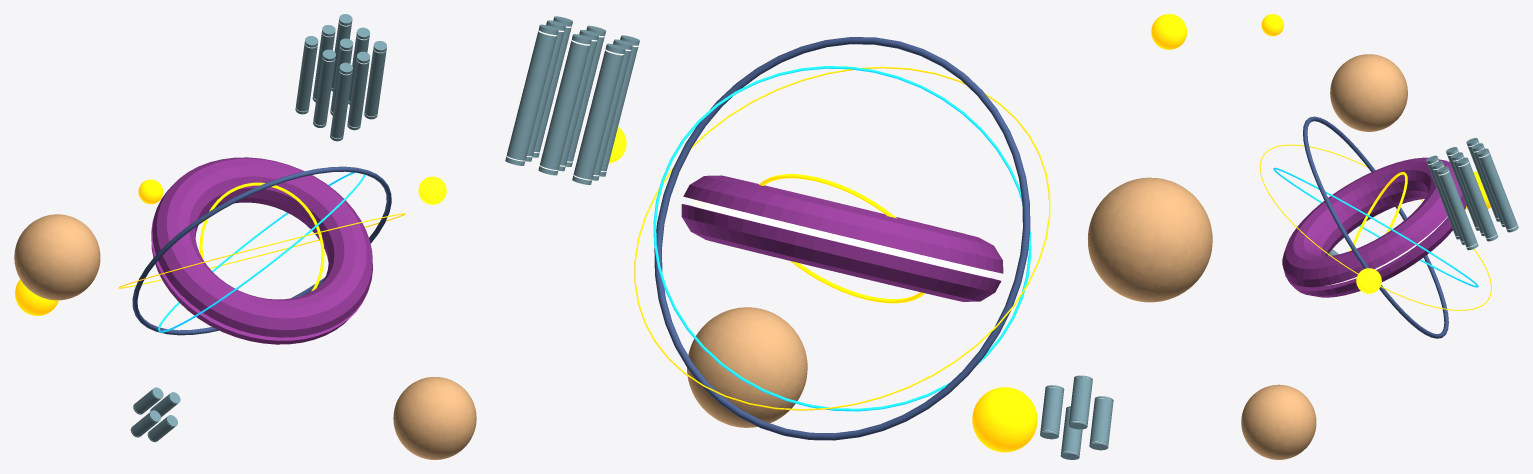
3 renders of one model, left to right at view 1: azimuth 30°, elevation 25°; view 2: azimuth 150°, elevation 25°; view 3: azimuth 270°, elevation 25°, orthographic. The views are drawn at different scales.
Parts seen in each view (by area): view 1: Torus.002, Sphere_pink.001, Sphere_pink.003, Circle.002, Cylinder.001, Cylinder.002, Cylinder.003, Cylinder.007, Cylinder.004, Circle, Sphere_pink, Circle.003 (+7 smaller); view 2: Torus.002, Sphere_pink.001, Sphere_pink.003, Circle.002, Circle, Sphere_pink, Cylinder.009, Cylinder.008, Cylinder.007, Circle.003, Circle.001, Cylinder.004 (+10 smaller); view 3: Torus.002, Sphere_pink.001, Sphere_pink.003, Circle.002, Cylinder.003, Cylinder.009, Cylinder.006, Circle, Circle.003, Sphere_pink.002, Circle.001, Sphere_pink.004 (+6 smaller).
Boxes of the visible parts, x1,y1,x2,y2 form: Torus.002: [151, 157, 372, 344]; Sphere_pink.001: [14, 214, 100, 300]; Sphere_pink.003: [393, 377, 476, 459]; Circle.002: [132, 166, 391, 335]; Cylinder.001: [347, 51, 370, 130]; Cylinder.002: [330, 62, 352, 141]; Cylinder.003: [364, 41, 386, 119]; Cylinder.007: [295, 36, 318, 114]; Cylinder.004: [313, 49, 335, 127]; Circle: [158, 172, 365, 332]; Sphere_pink: [15, 279, 58, 315]; Circle.003: [118, 213, 405, 288]; Torus.002: [681, 175, 1003, 301]; Sphere_pink.001: [1088, 177, 1212, 302]; Sphere_pink.003: [687, 307, 807, 427]; Circle.002: [654, 37, 1030, 440]; Circle: [653, 66, 1031, 411]; Sphere_pink: [972, 387, 1037, 452]; Cylinder.009: [505, 24, 558, 165]; Cylinder.008: [538, 34, 591, 175]; Cylinder.007: [572, 43, 625, 184]; Circle.003: [634, 66, 1050, 410]; Circle.001: [759, 174, 924, 303]; Cylinder.004: [592, 39, 632, 180]; Torus.002: [1282, 157, 1466, 297]; Sphere_pink.001: [1330, 54, 1407, 131]; Sphere_pink.003: [1241, 384, 1316, 459]; Circle.002: [1303, 116, 1448, 338]; Cylinder.003: [1437, 166, 1478, 250]; Cylinder.009: [1477, 148, 1518, 232]; Cylinder.006: [1456, 157, 1498, 241]; Circle: [1273, 167, 1478, 287]; Circle.003: [1259, 144, 1491, 310]; Sphere_pink.002: [1356, 268, 1381, 293]; Circle.001: [1350, 172, 1407, 250]; Sphere_pink.004: [1261, 14, 1283, 36].
Bounding box in the file's own units: 10.17 × 8.03 × 6.36.
Materials: 3 (3 with a texture image).
